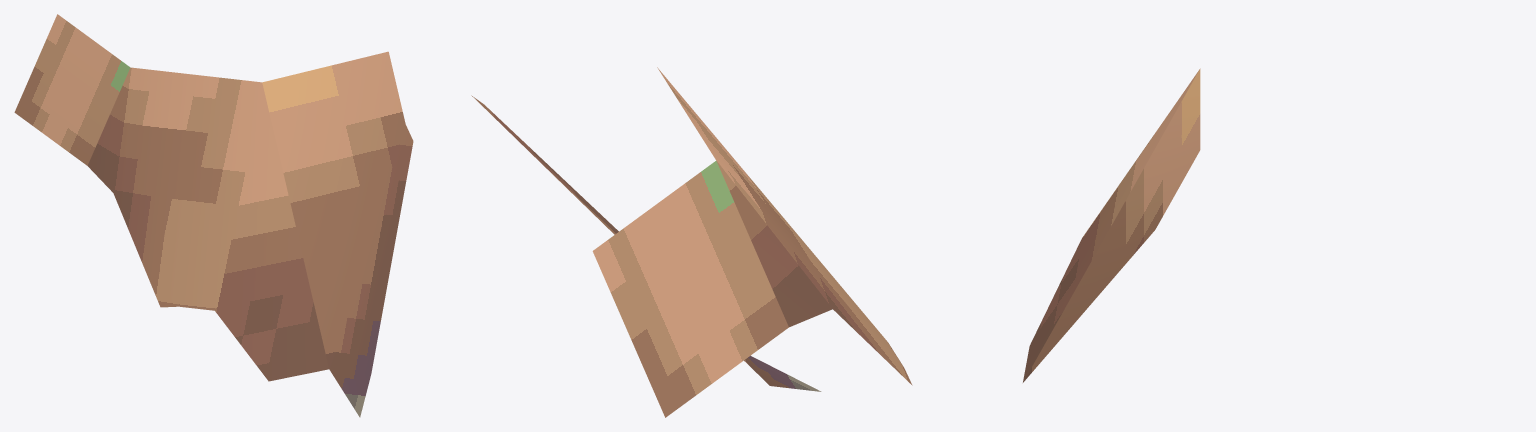
3 views of the same model, side by side, from view 1: azimuth 30°, elevation 25°; view 2: azimuth 150°, elevation 25°; view 3: azimuth 270°, elevation 25° (orthographic). The views are drawn at different scales.
Bounding box in the file's own units: 1 × 0.9971 × 1.5.
Materials: 2 (2 with a texture image).
